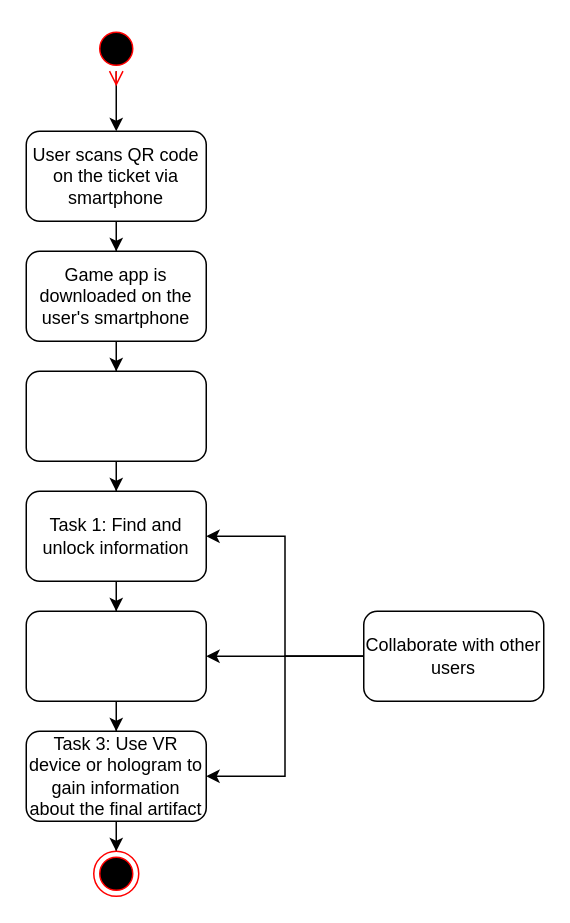
Some shapes in this 570 by 923 pixel diagram are drawn without their labels. Here are the shapes that lost their labels. From the top down, the box of each, then its label:
(25, 370, 206, 461): Player is introduced to the game by the app.
(25, 610, 206, 701): Task 2: Solve puzzle/riddle
